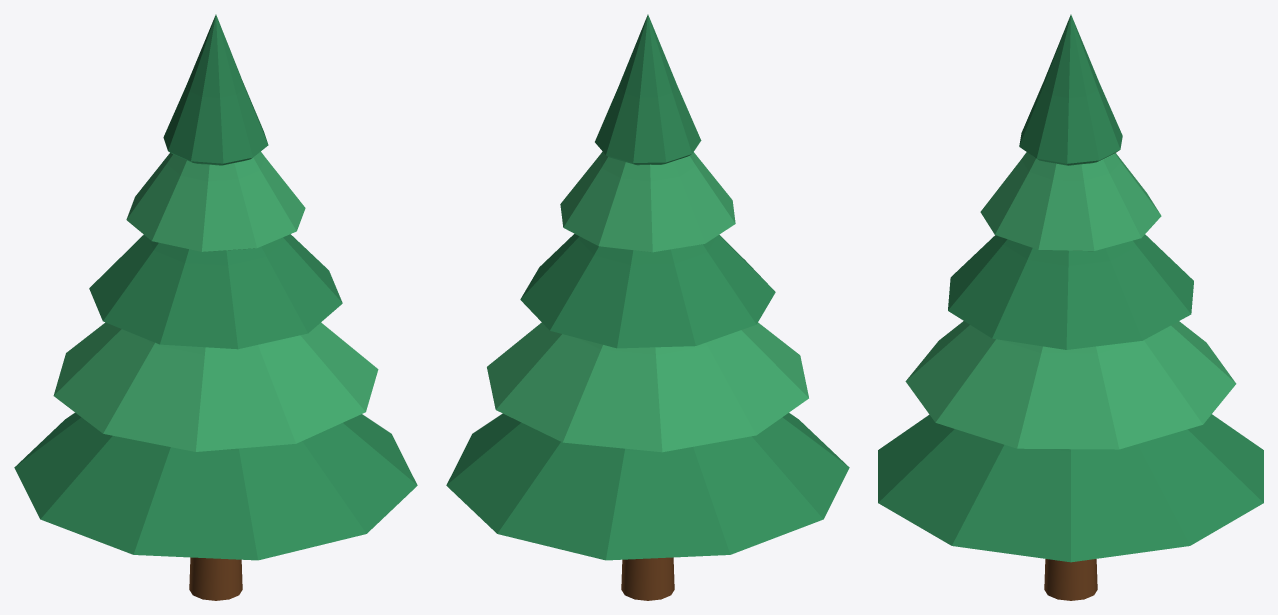
File: Tree_B.glb
3 renders of one model, left to right at view 1: azimuth 30°, elevation 25°; view 2: azimuth 150°, elevation 25°; view 3: azimuth 270°, elevation 25°, orthographic.
Parts seen in each view (by area): view 1: Needles, NeedlesLight, Trunk; view 2: Needles, NeedlesLight, Trunk; view 3: Needles, NeedlesLight, Trunk.
Boxes of the visible parts, x1,y1,x2,y2 form: Needles: [14, 14, 417, 560]; NeedlesLight: [53, 151, 378, 451]; Trunk: [189, 557, 242, 600]; Needles: [446, 14, 849, 560]; NeedlesLight: [487, 151, 808, 452]; Trunk: [621, 557, 674, 600]; Needles: [878, 14, 1263, 562]; NeedlesLight: [905, 152, 1236, 449]; Trunk: [1044, 559, 1097, 600].
Bounding box in the file's own units: 15.2 × 23.8 × 14.46.
